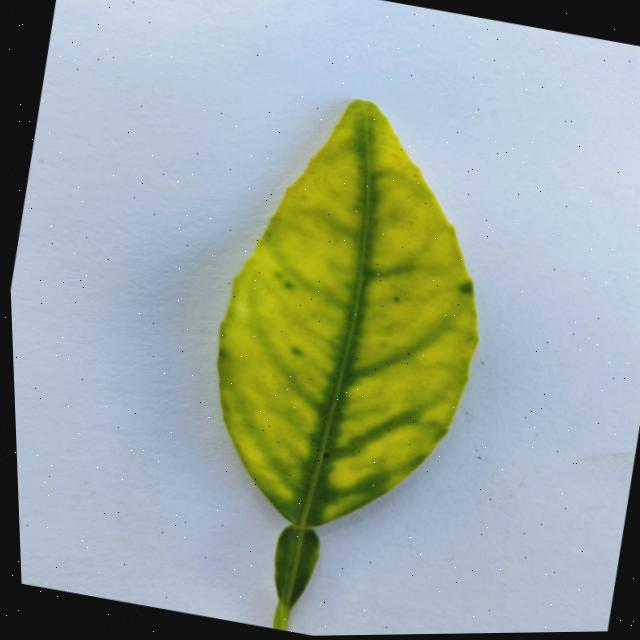greening: (219, 101, 477, 528)
